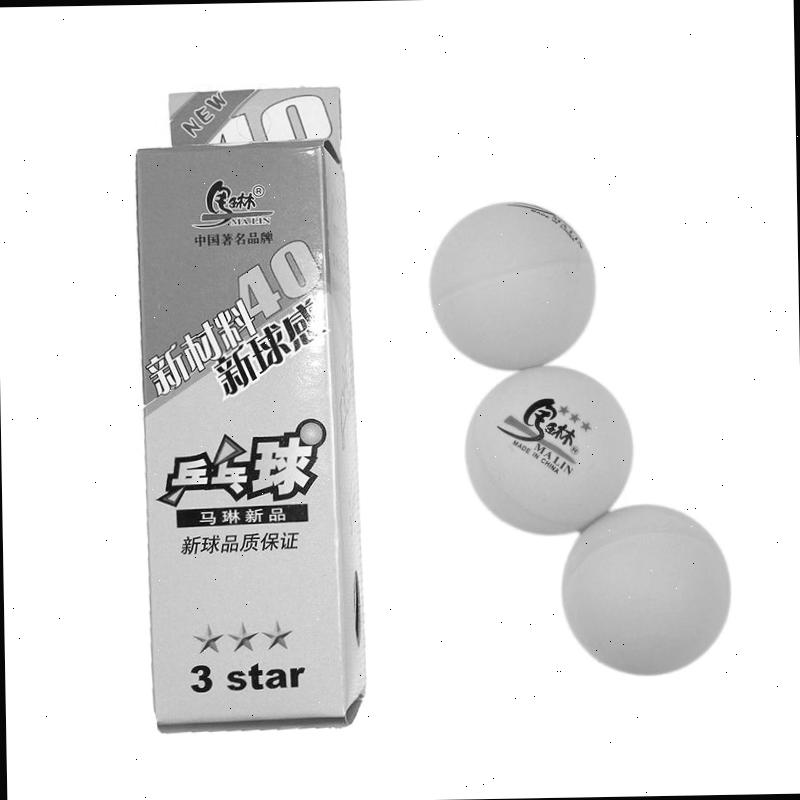ball: (419, 192, 604, 378), (457, 361, 640, 541), (556, 499, 735, 680)
